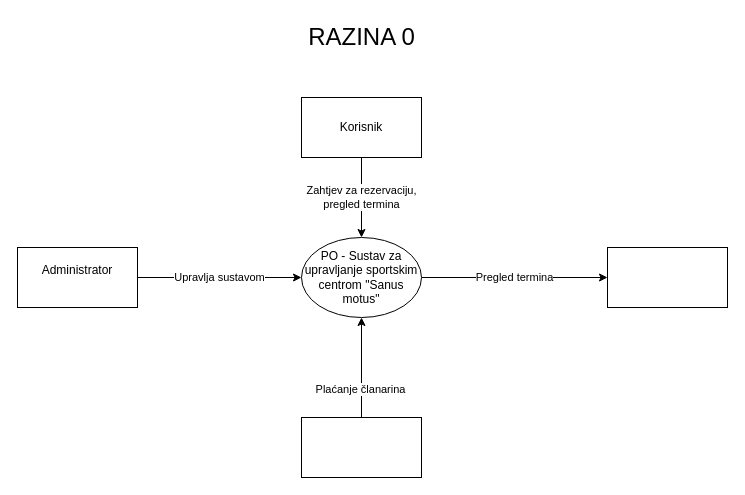
Some shapes in this 745 by 495 pixel diagram are drawn without their labels. The shapes that lost their labels are listed below. From the top down, each one's centre as x and y in pixels, then its label:
At (667,277): "Trener".
At (361,447): "Platni sustav".
